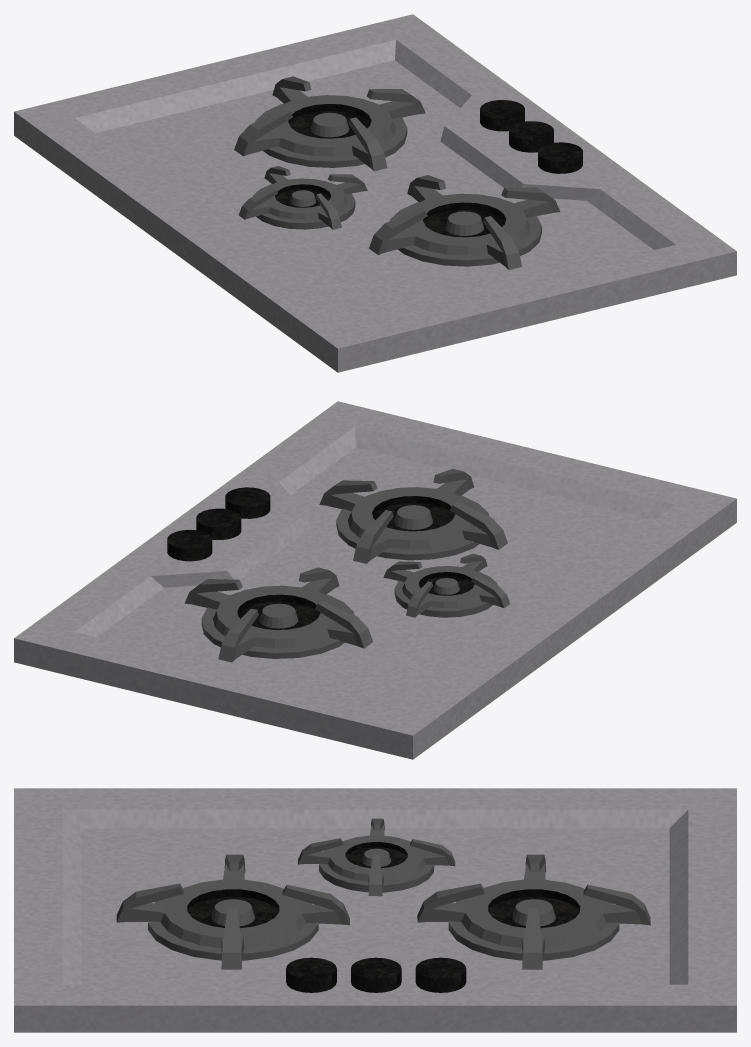
The model's file is Stove.fbx.
3 renders of one model, top to bottom at view 1: azimuth 30°, elevation 25°; view 2: azimuth 150°, elevation 25°; view 3: azimuth 270°, elevation 25°, orthographic. The views are drawn at different scales.
Parts seen in each view (by area): view 1: pCube33, pCylinder84, pCylinder85, pCylinder15, pCylinder19, pCylinder17, pCylinder18; view 2: pCube33, pCylinder85, pCylinder84, pCylinder15, pCylinder18, pCylinder19, pCylinder17; view 3: pCube33, pCylinder85, pCylinder84, pCylinder15, pCylinder18, pCylinder19, pCylinder17.
Boxes of the visible parts, x1,y1,x2,y2 form: pCube33: (14,14,736,372); pCylinder84: (369,175,560,269); pCylinder85: (234,76,425,171); pCylinder15: (238,166,367,229); pCylinder19: (538,142,582,173); pCylinder17: (509,121,553,152); pCylinder18: (480,100,524,131); pCube33: (14,401,736,759); pCylinder85: (184,567,373,662); pCylinder84: (319,469,507,563); pCylinder15: (383,553,510,617); pCylinder18: (167,530,212,561); pCylinder19: (225,487,270,518); pCylinder17: (196,508,241,539); pCube33: (14,788,736,1032); pCylinder85: (417,854,650,969); pCylinder84: (116,854,349,969); pCylinder15: (298,818,455,896); pCylinder18: (415,957,466,992); pCylinder19: (286,957,336,992); pCylinder17: (351,957,401,992).
Bounding box in the file's own units: 0.5919 × 0.0733 × 0.832.
